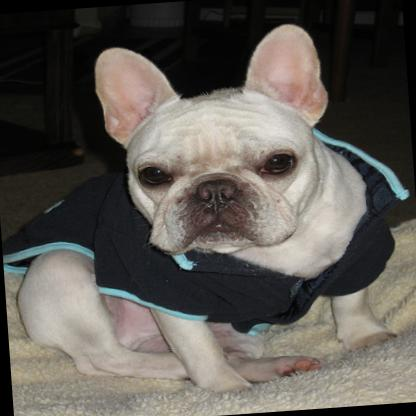French_bulldog: (0, 13, 416, 405)
